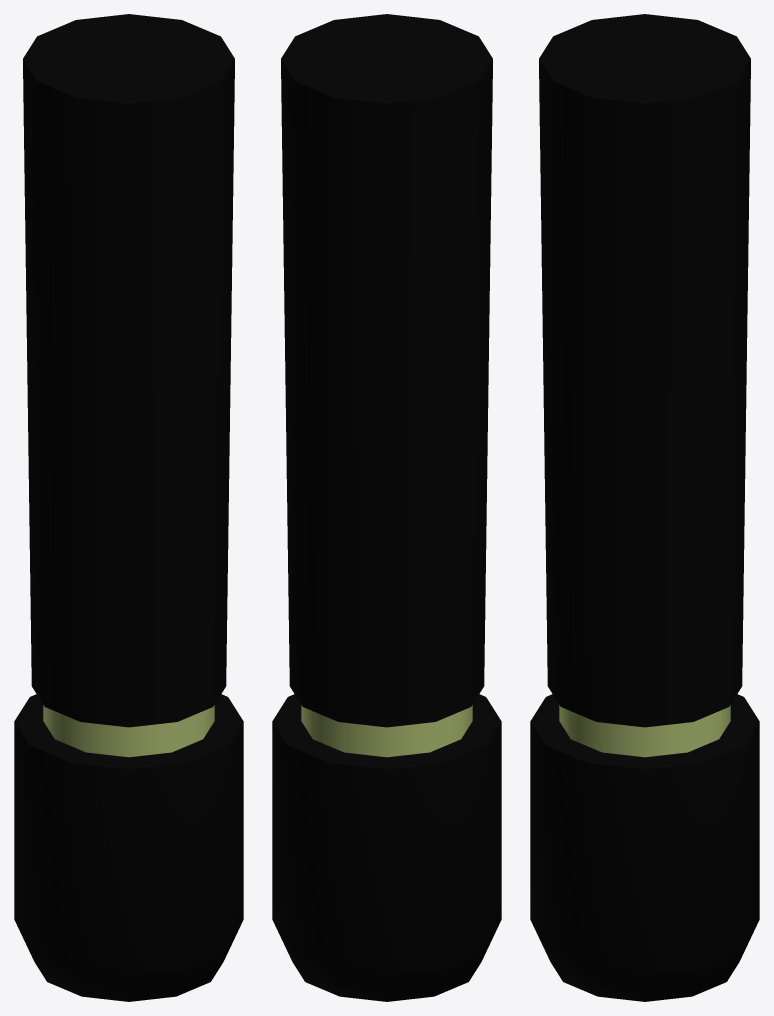
File: Nipple.fbx
3 views of the same model, side by side, from view 1: azimuth 30°, elevation 25°; view 2: azimuth 150°, elevation 25°; view 3: azimuth 270°, elevation 25° (orthographic).
Parts seen in each view (by area): view 1: Cylinder.006; view 2: Cylinder.006; view 3: Cylinder.006.
Boxes of the visible parts, x1,y1,x2,y2 form: Cylinder.006: (14,14,243,1001); Cylinder.006: (272,14,501,1001); Cylinder.006: (530,14,759,1001).
Bounding box in the file's own units: 5.73 × 25.42 × 5.73.
